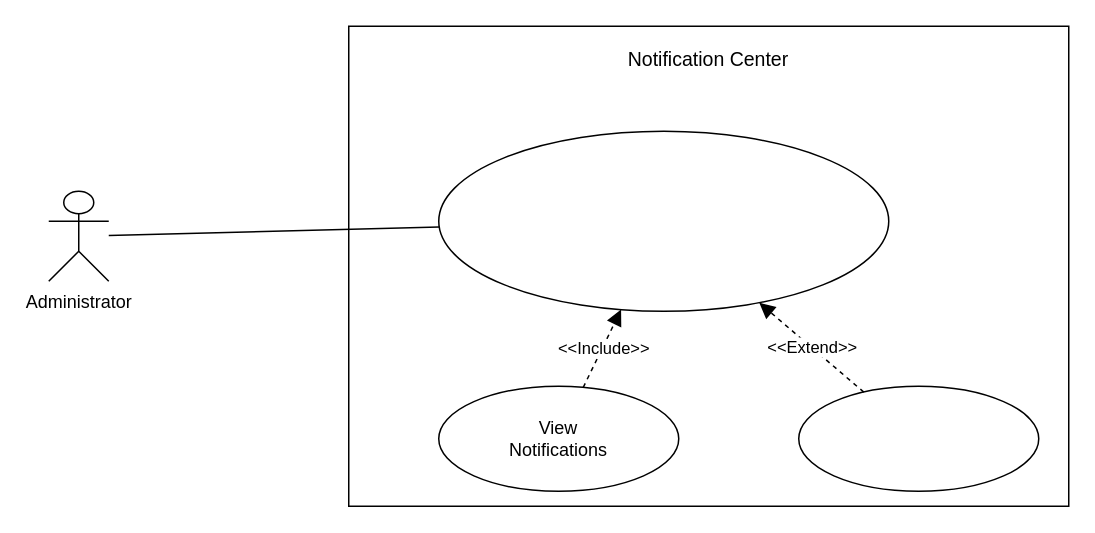
Some shapes in this 1095 by 533 pixel diagram are drawn without their labels. The centre of each missing label's shape, as x and y in pixels:
"Confirm Notification" belongs at point 918,438.
"Monitor Notifications extension points Confirm Notification" belongs at point 663,220.
